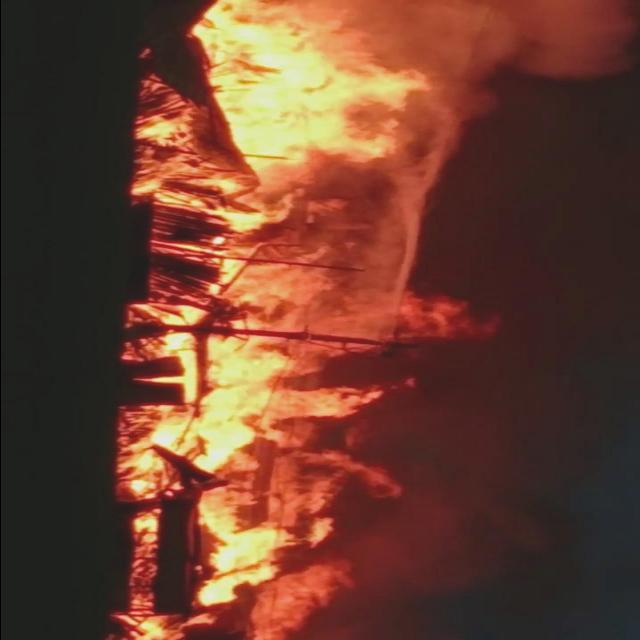Fire: (118, 1, 496, 639)
